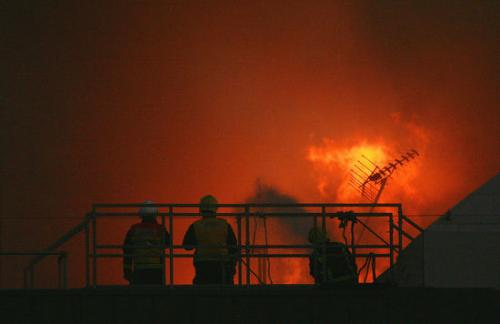fire: (306, 114, 437, 198)
